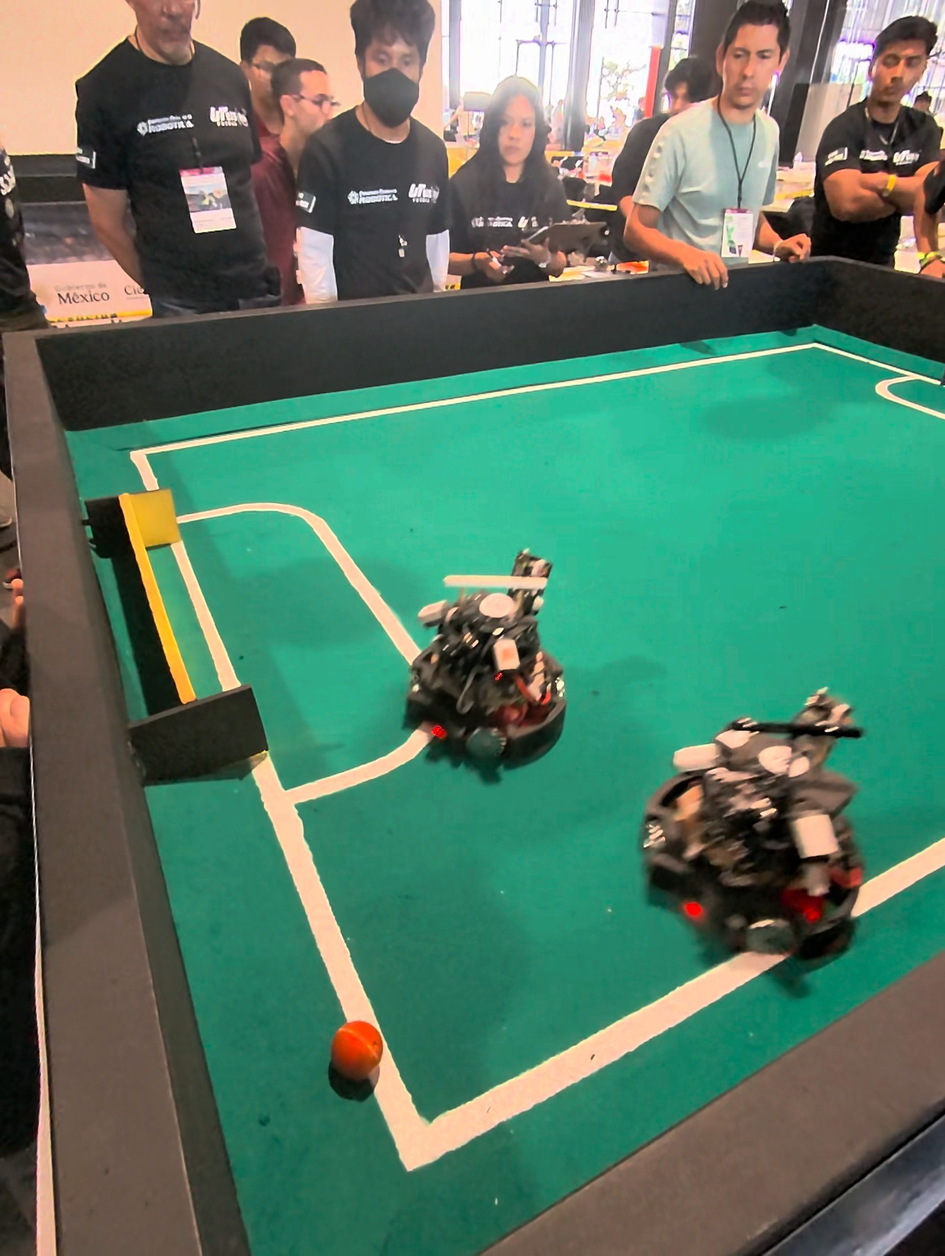Robot: (630, 687, 873, 972), (405, 549, 573, 793)
pelota: (331, 1023, 384, 1098)
